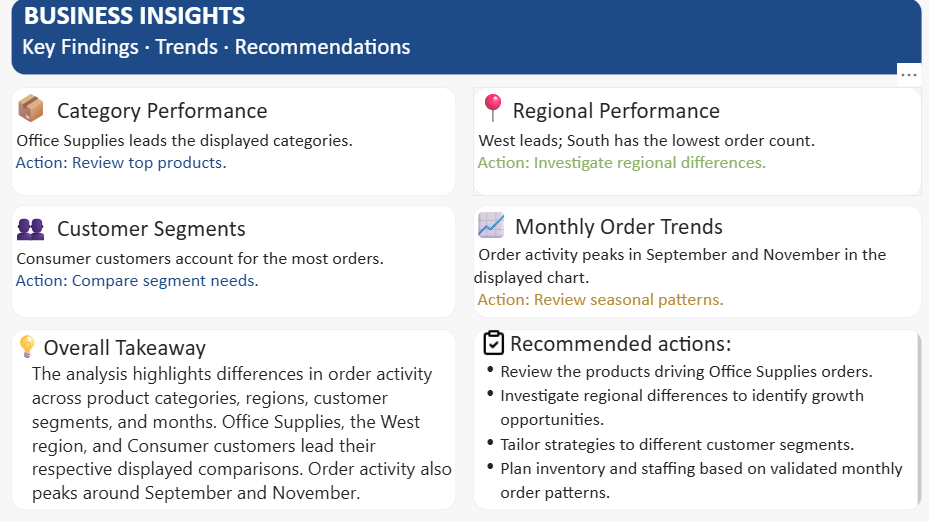

Layout of this report page (visuals, bound fields, positions):
{"tool":"powerbi","page":{"name":"Page 2","canvas":[1920,1080],"ordinal":1},"visuals":[{"type":"textbox","box":[24.8,0,1880.8,159],"z":0},{"type":"textbox","box":[24.8,183.7,918.7,225],"z":1},{"type":"textbox","box":[978.6,183.7,927,225],"z":2},{"type":"textbox","box":[24.8,427.4,918.7,233.3],"z":3},{"type":"textbox","box":[978.6,427.4,927,233.3],"z":4},{"type":"textbox","box":[24.8,683.4,918.7,373.7],"z":5},{"type":"textbox","box":[978.6,683.4,927,373.7],"z":6},{"type":"image","box":[978.6,683.4,86.7,55.7],"z":7}]}

Visuals, with their boxes in screenshot pixels (x1, y1, x2, y2), scaled from the page's 1920x1080 canvas onto the 929x522 screenshot:
textbox: {"left": 12, "top": 0, "right": 922, "bottom": 77}
textbox: {"left": 12, "top": 89, "right": 457, "bottom": 198}
textbox: {"left": 473, "top": 89, "right": 922, "bottom": 198}
textbox: {"left": 12, "top": 207, "right": 457, "bottom": 319}
textbox: {"left": 473, "top": 207, "right": 922, "bottom": 319}
textbox: {"left": 12, "top": 330, "right": 457, "bottom": 511}
textbox: {"left": 473, "top": 330, "right": 922, "bottom": 511}
image: {"left": 473, "top": 330, "right": 515, "bottom": 357}
